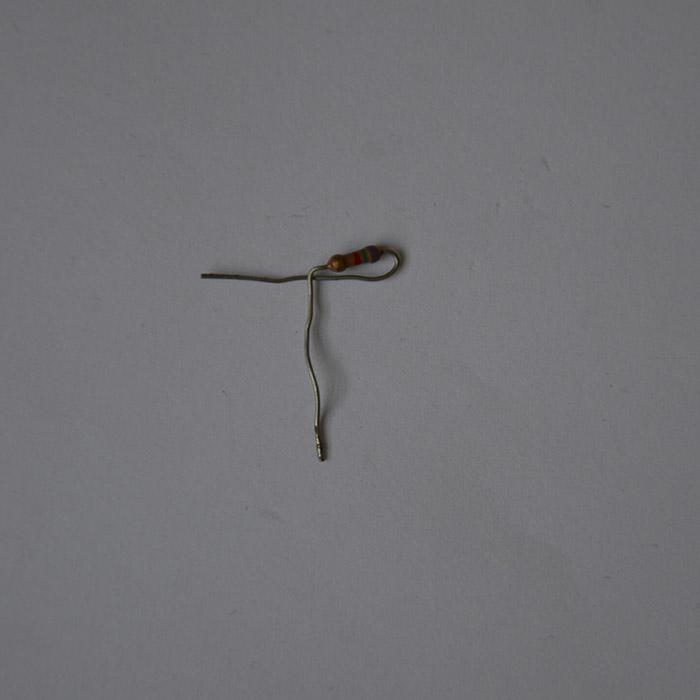resistor: (328, 243, 384, 272)
